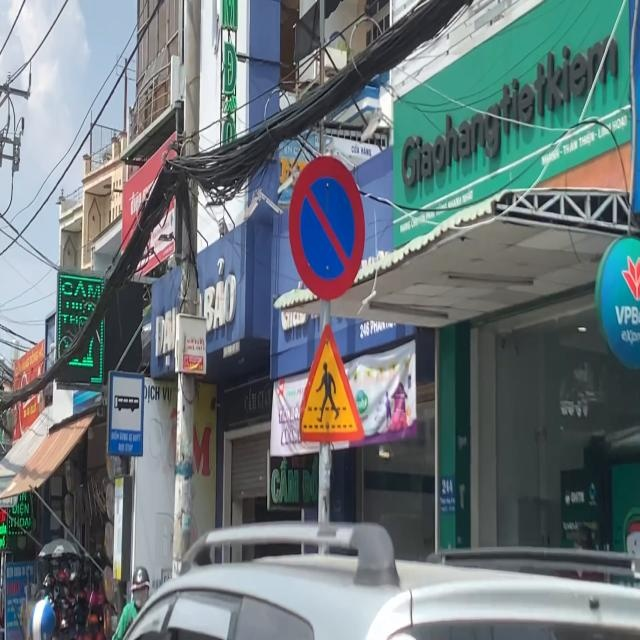bien_nguy_hiem: (288, 154, 366, 302), (296, 323, 368, 442), (106, 370, 144, 457)
